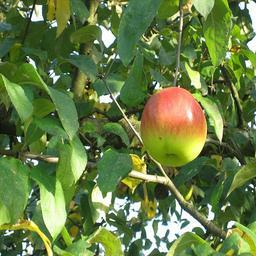apple: (139, 85, 207, 166)
